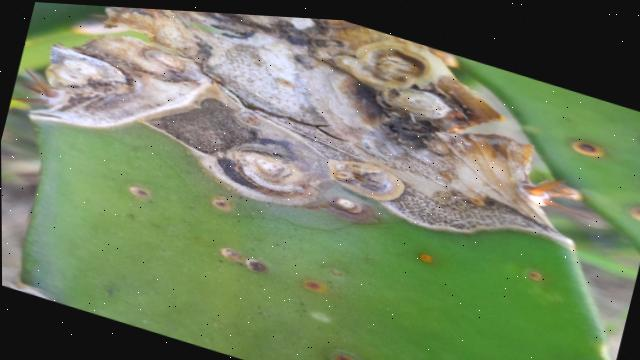stemcanker: (212, 241, 278, 278), (564, 136, 606, 162), (297, 278, 331, 299), (414, 245, 440, 269), (209, 193, 238, 214), (123, 182, 154, 199), (522, 269, 547, 285)
